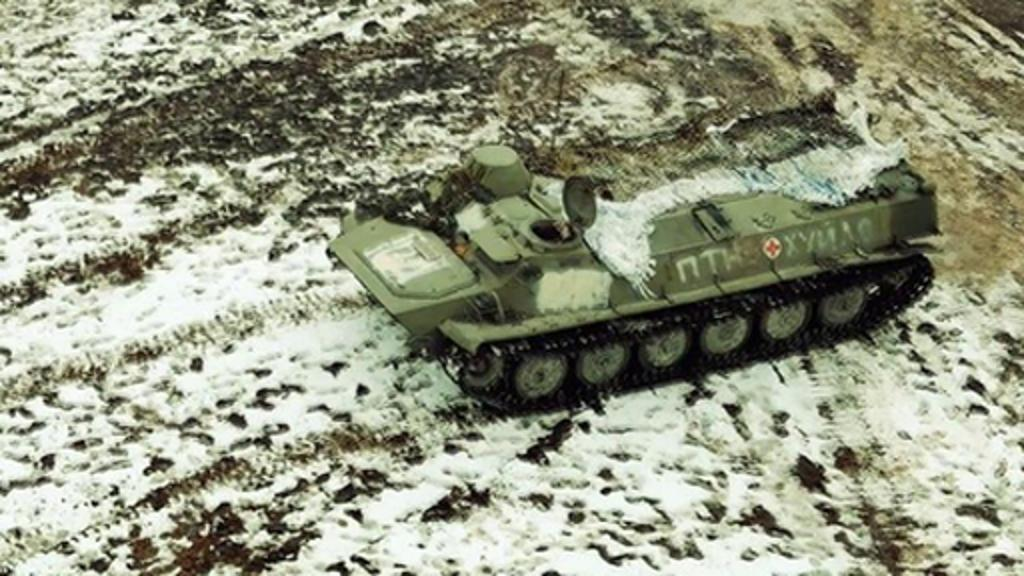APC-IFV: (326, 72, 962, 420)
